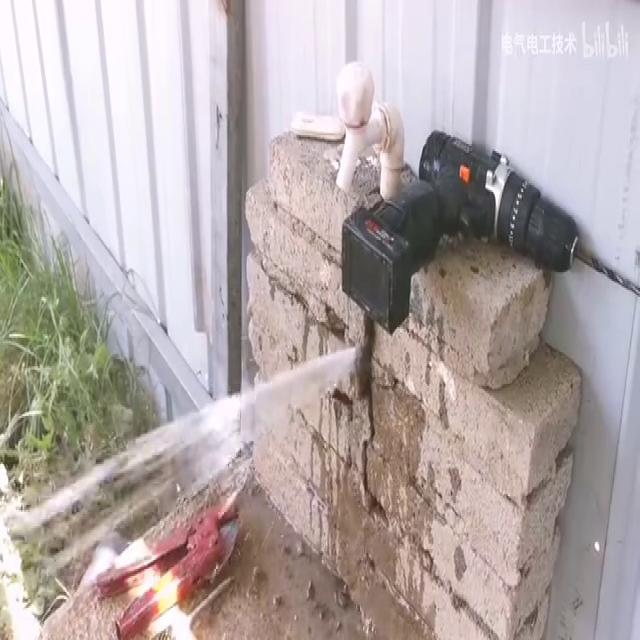leak: (0, 345, 358, 640)
